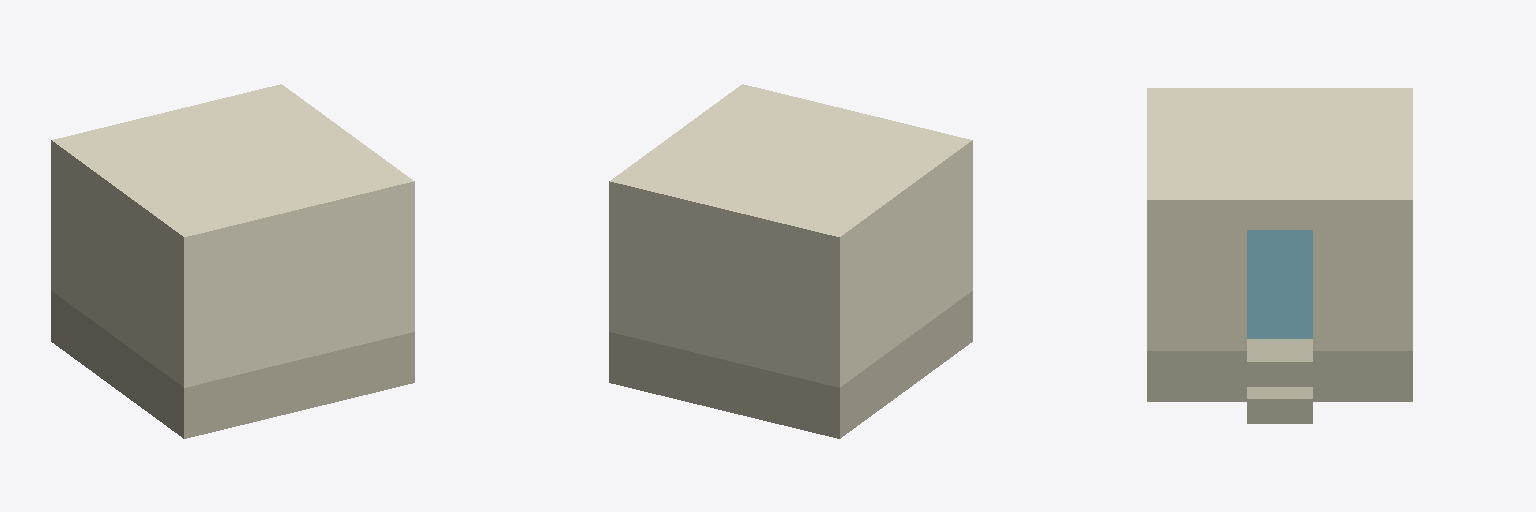
The model's file is building_026.obj.
The picture shows the model from 3 angles: view 1: azimuth 30°, elevation 25°; view 2: azimuth 150°, elevation 25°; view 3: azimuth 270°, elevation 25°; orthographic projection.
Parts seen in each view (by area): view 1: building_026; view 2: building_026; view 3: building_026.
Boxes of the visible parts, box(x1,y1,x2,y2) form: building_026: box(51, 84, 414, 438); building_026: box(609, 84, 972, 438); building_026: box(1147, 88, 1412, 423).
Bounding box in the file's own units: 1.2 × 0.8375 × 1.